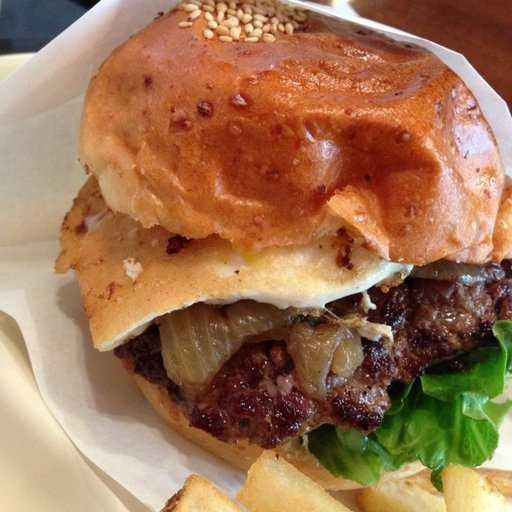hamburger: (69, 1, 499, 470)
